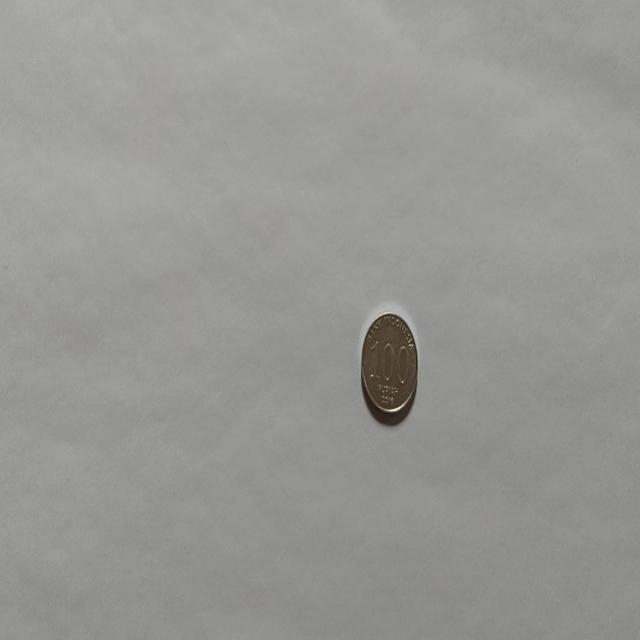seratus rupiah: (360, 309, 418, 423)
